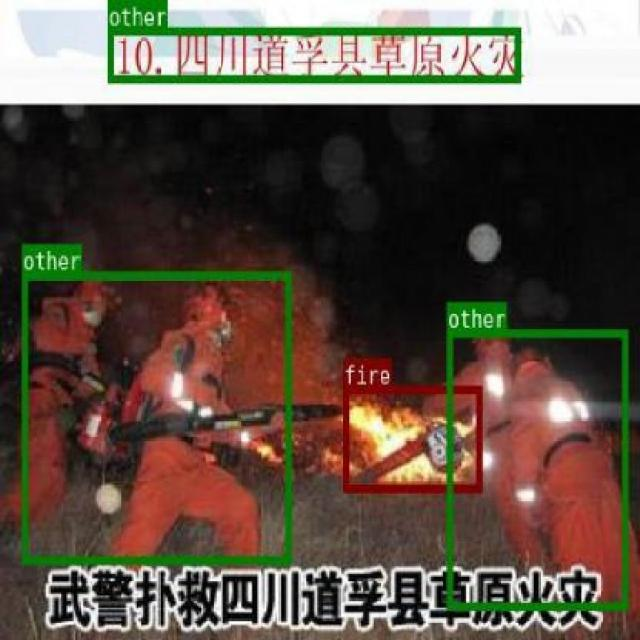Fire: (342, 385, 480, 490)
